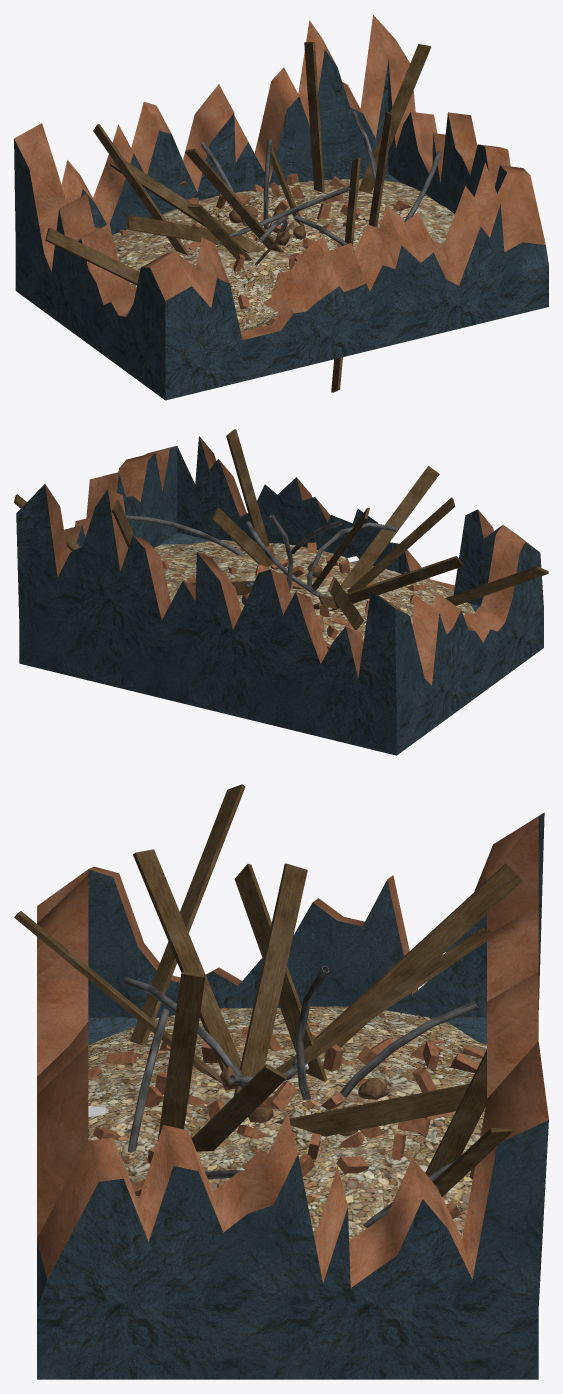
The model's file is HouseCollapsed.FBX.
3 renders of one model, top to bottom at view 1: azimuth 30°, elevation 25°; view 2: azimuth 150°, elevation 25°; view 3: azimuth 270°, elevation 25°, orthographic. The views are drawn at different scales.
Visible parts, largest first — view 1: Box001, Plane001, Box050, Box058, Box051, Box054, Box056, Box048, Box049, Box057, Box047, Box053 (+3 smaller); view 2: Box001, Plane001, Box055, Box048, Box047, Box053, Box051, Box057, Box049, Tube007, Box056, Tube004 (+3 smaller); view 3: Box001, Plane001, Box056, Box049, Box053, Box052, Box047, Box051, Box054, Box048, Box057, Box050 (+6 smaller).
Part boxes in pixels (left/top/right/bottom): Box001: left=14, top=15, right=548, bottom=400; Plane001: left=112, top=178, right=454, bottom=331; Box050: left=304, top=42, right=324, bottom=192; Box058: left=358, top=44, right=431, bottom=193; Box051: left=45, top=227, right=139, bottom=285; Box054: left=109, top=160, right=265, bottom=252; Box056: left=185, top=148, right=283, bottom=252; Box048: left=126, top=215, right=222, bottom=245; Box049: left=93, top=124, right=189, bottom=255; Box057: left=331, top=158, right=360, bottom=392; Box047: left=368, top=111, right=393, bottom=227; Box053: left=187, top=204, right=251, bottom=260; Box001: left=16, top=436, right=543, bottom=755; Plane001: left=154, top=540, right=474, bottom=645; Box055: left=340, top=466, right=439, bottom=588; Box048: left=313, top=556, right=463, bottom=610; Box047: left=226, top=429, right=269, bottom=546; Box053: left=347, top=497, right=455, bottom=592; Box051: left=445, top=566, right=548, bottom=605; Box057: left=212, top=508, right=273, bottom=566; Box049: left=328, top=577, right=364, bottom=629; Tube007: left=126, top=515, right=245, bottom=555; Box056: left=312, top=507, right=369, bottom=590; Tube004: left=307, top=522, right=397, bottom=587; Box001: left=37, top=812, right=548, bottom=1379; Plane001: left=88, top=1006, right=486, bottom=1240; Box056: left=234, top=863, right=307, bottom=1095; Box049: left=313, top=863, right=522, bottom=1047; Box053: left=133, top=849, right=241, bottom=1070; Box052: left=274, top=1083, right=469, bottom=1136; Box047: left=157, top=971, right=205, bottom=1140; Box051: left=130, top=784, right=245, bottom=1044; Box054: left=275, top=927, right=492, bottom=1073; Box048: left=234, top=864, right=327, bottom=1081; Box057: left=191, top=1064, right=286, bottom=1151; Box050: left=425, top=1050, right=486, bottom=1176.
Size of the model in its own units: 811 by 408 by 483.
Materials: 6 (6 with a texture image).
